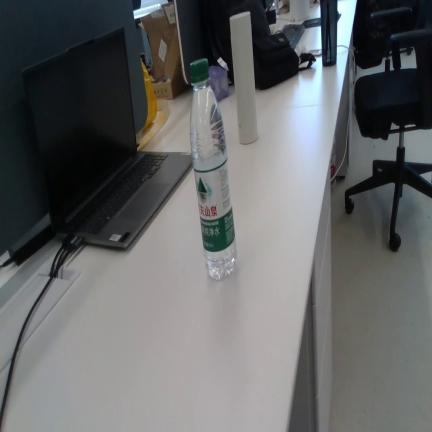bottle: (190, 58, 237, 280)
